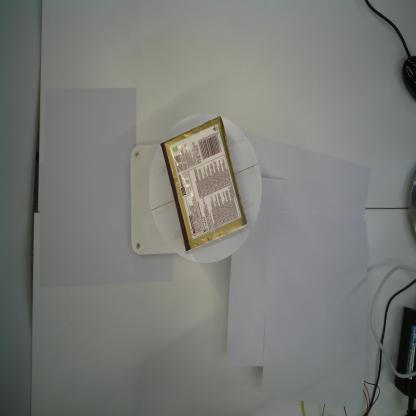Tissue: (160, 116, 248, 254)
